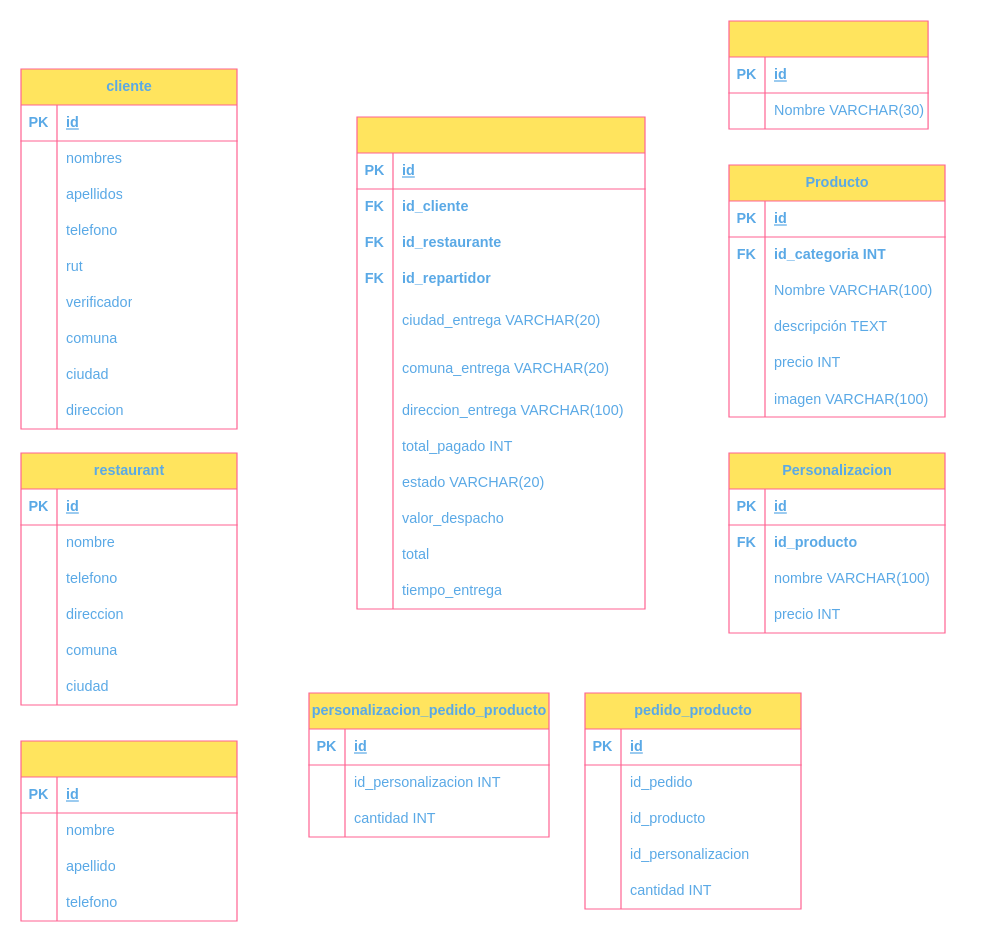
Image size: 986x942. Some labels were removed from this diagram. The shapes that lost their labels are listed below. From the top down, each one's box as (x1, y1, x2, y2) in pixels, then its label:
(728, 20, 928, 129): Categoría
(356, 116, 645, 609): pedido
(20, 740, 237, 921): repartidor
